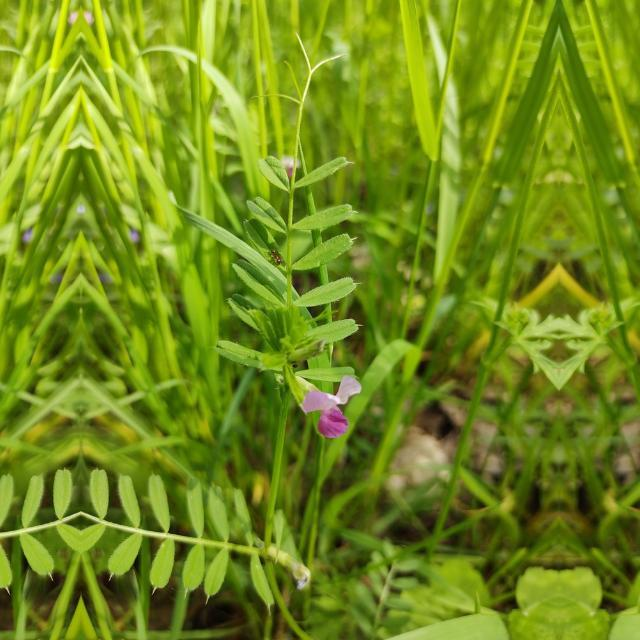Myrmica: (264, 241, 284, 269)
